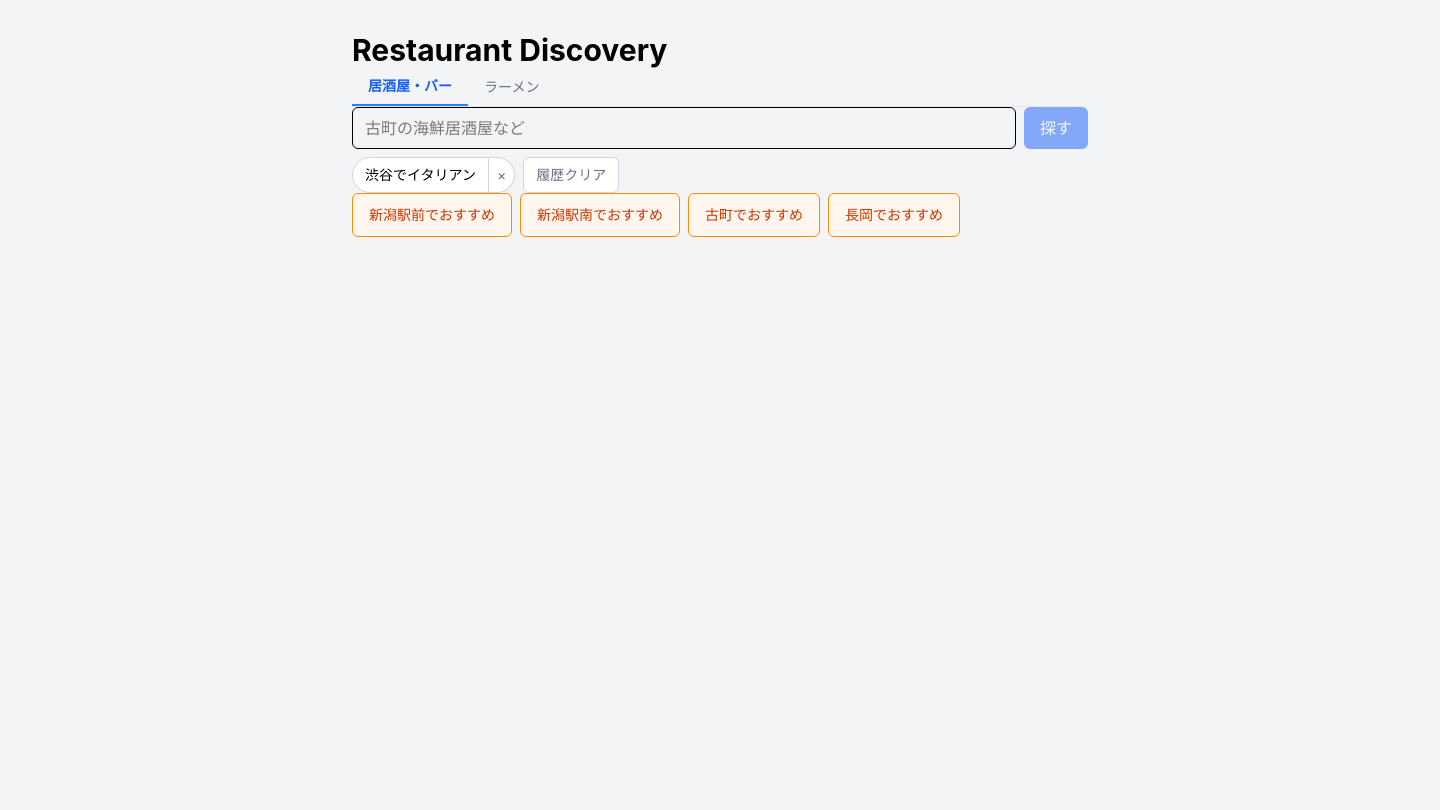
it: App - refine-recommendation統合 › 再レコメンド後に「もっと見る」展開状態がリセットされる（Req 6.2）
Type "渋谷でイタリアン" into the field at [684, 128], box [352,107,1016,149]
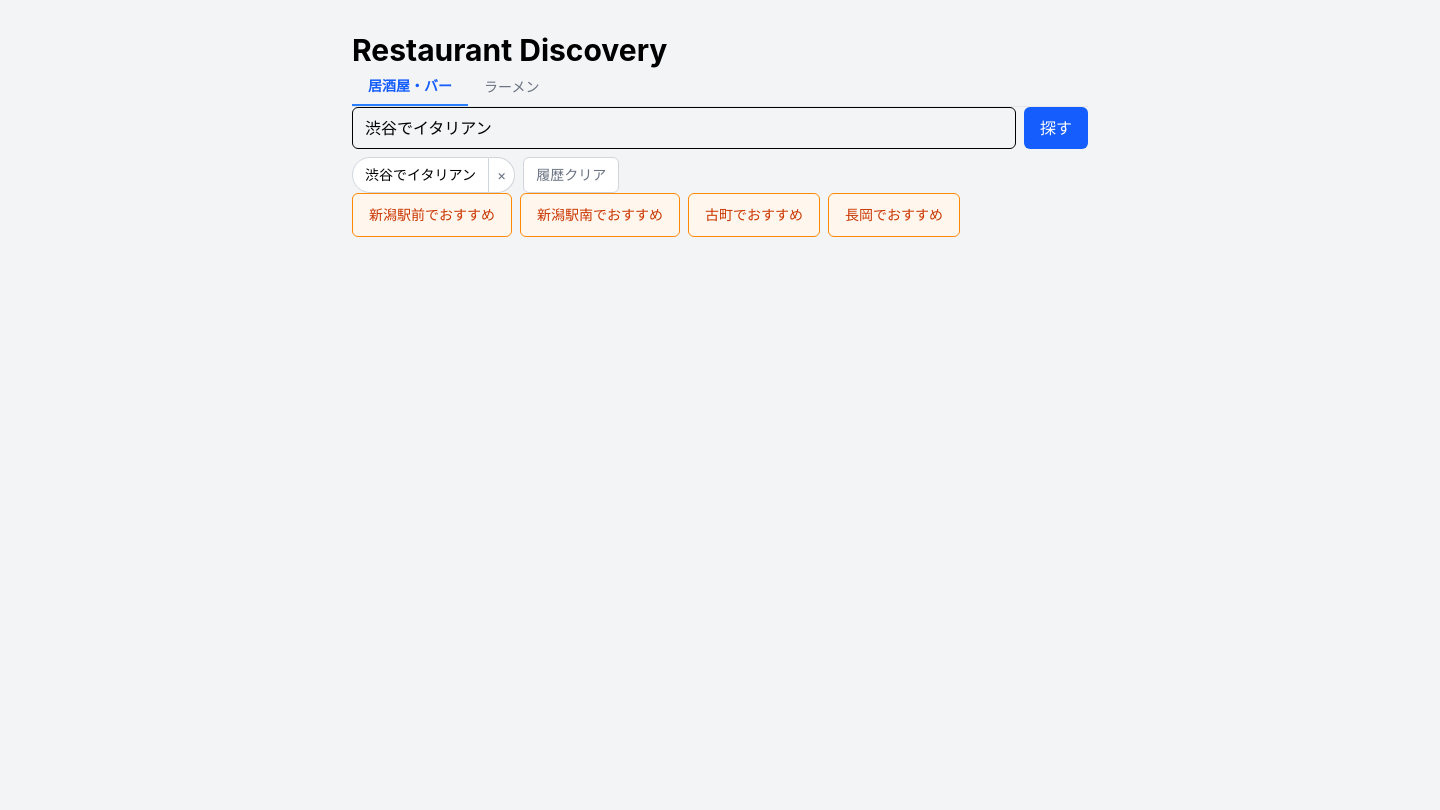
Submit the form, box [352,107,1088,149]
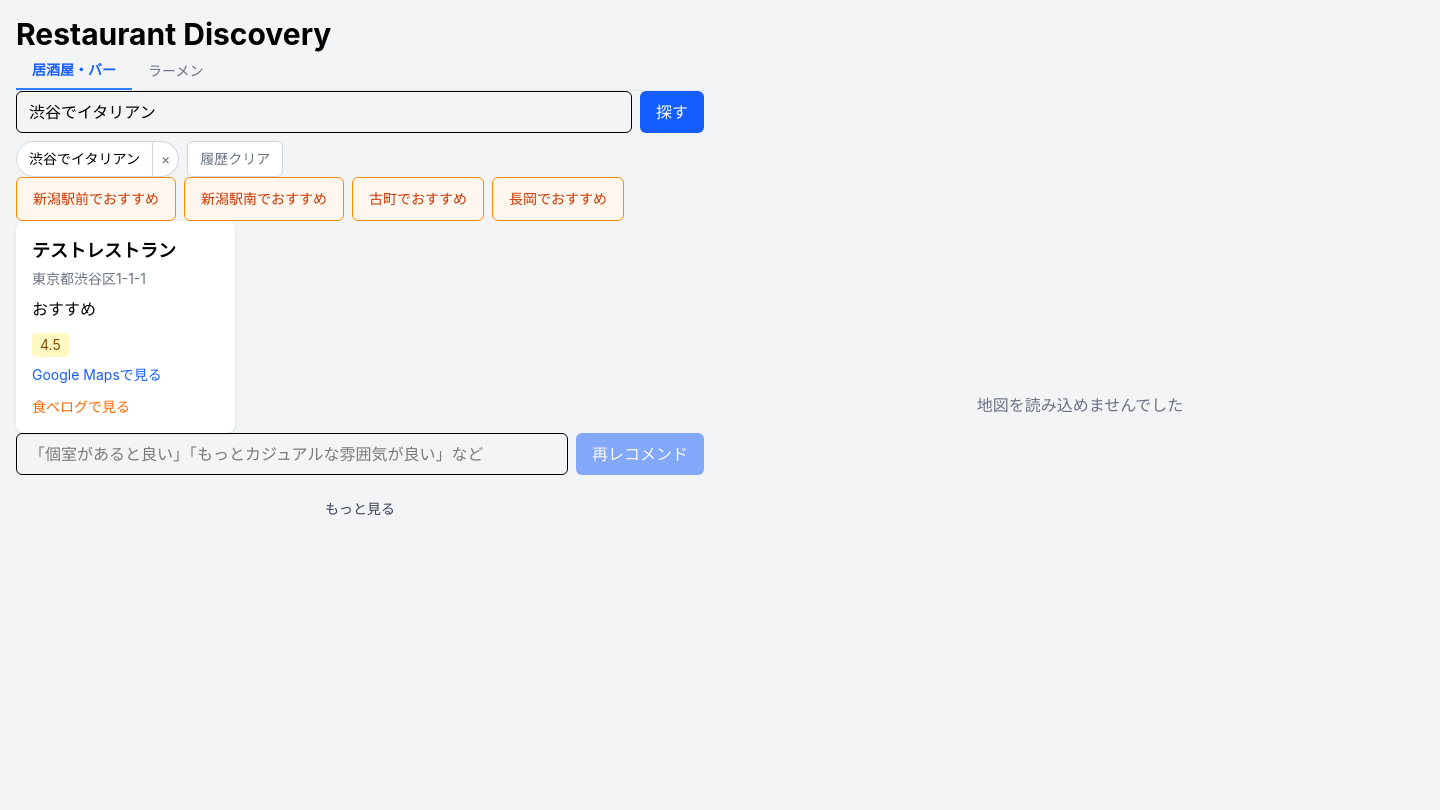
Now the heading "テストレストラン" is shown, box [32,240,176,261]
Click the button "もっと見る" at [360, 509], box [301,491,419,527]
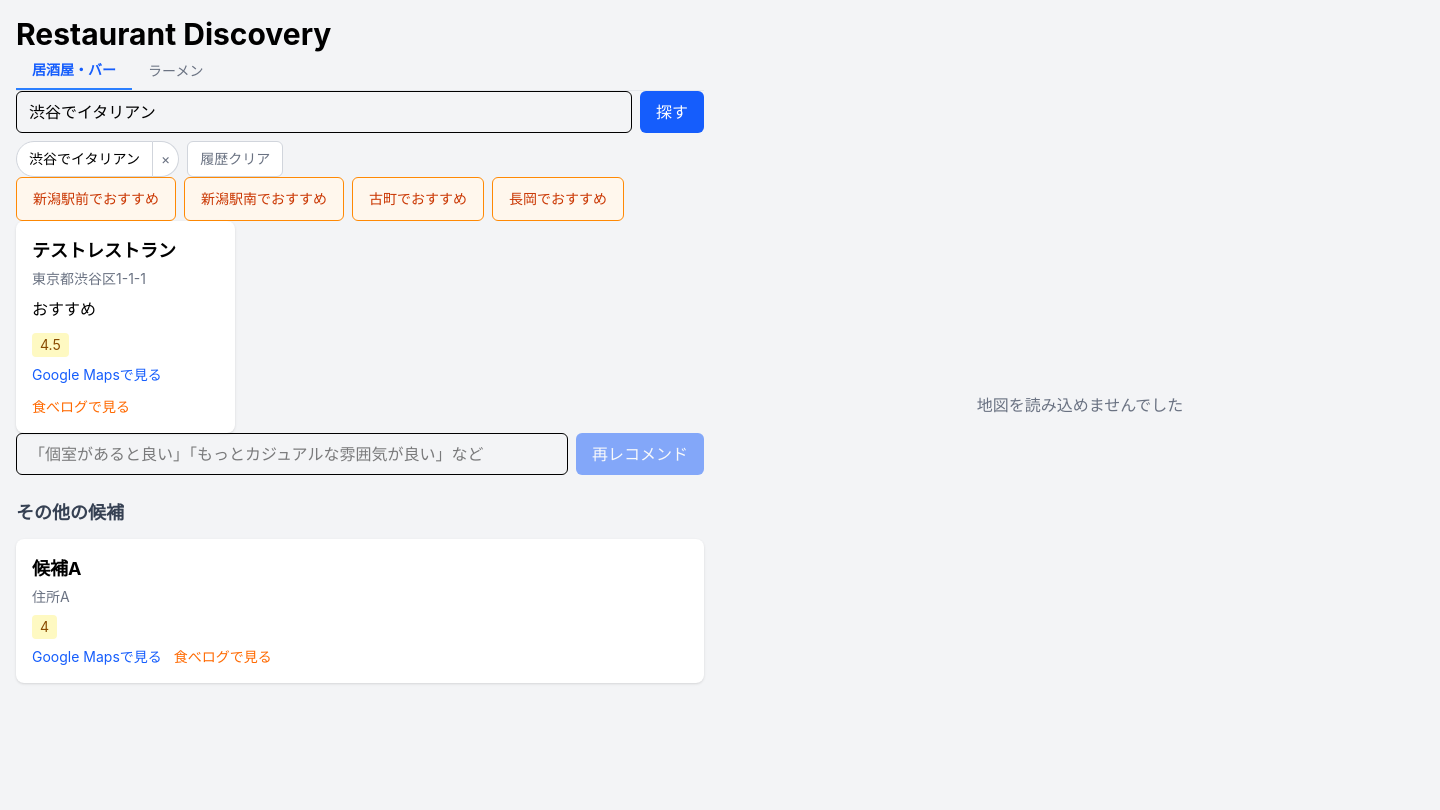
Now the heading "候補A" is shown, box [32,558,82,579]
Type "個室があると良い" into the field named "フィードバック入力" at [292, 454], box [16,433,568,475]
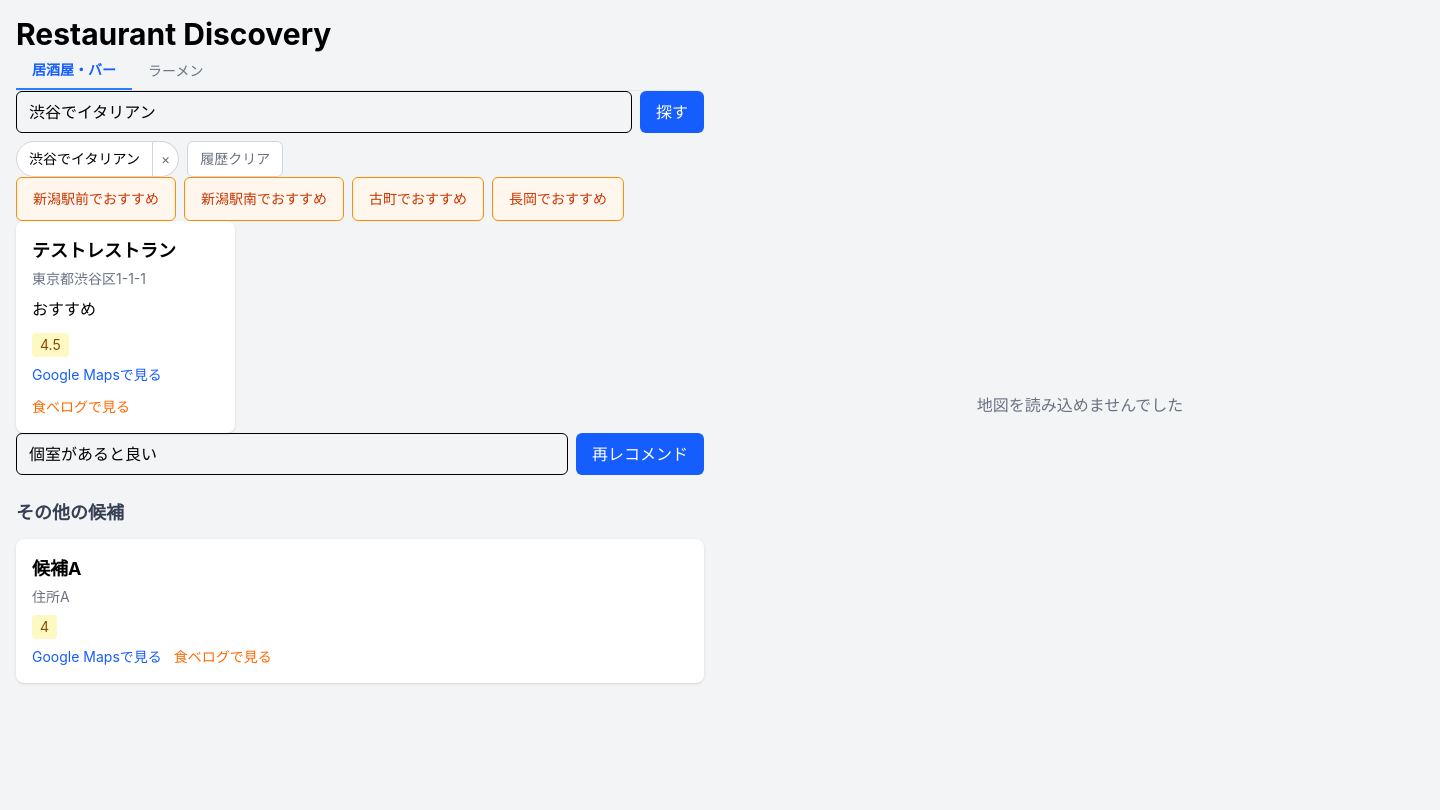
Click the button "再レコメンド" at [640, 454], box [576,433,704,475]
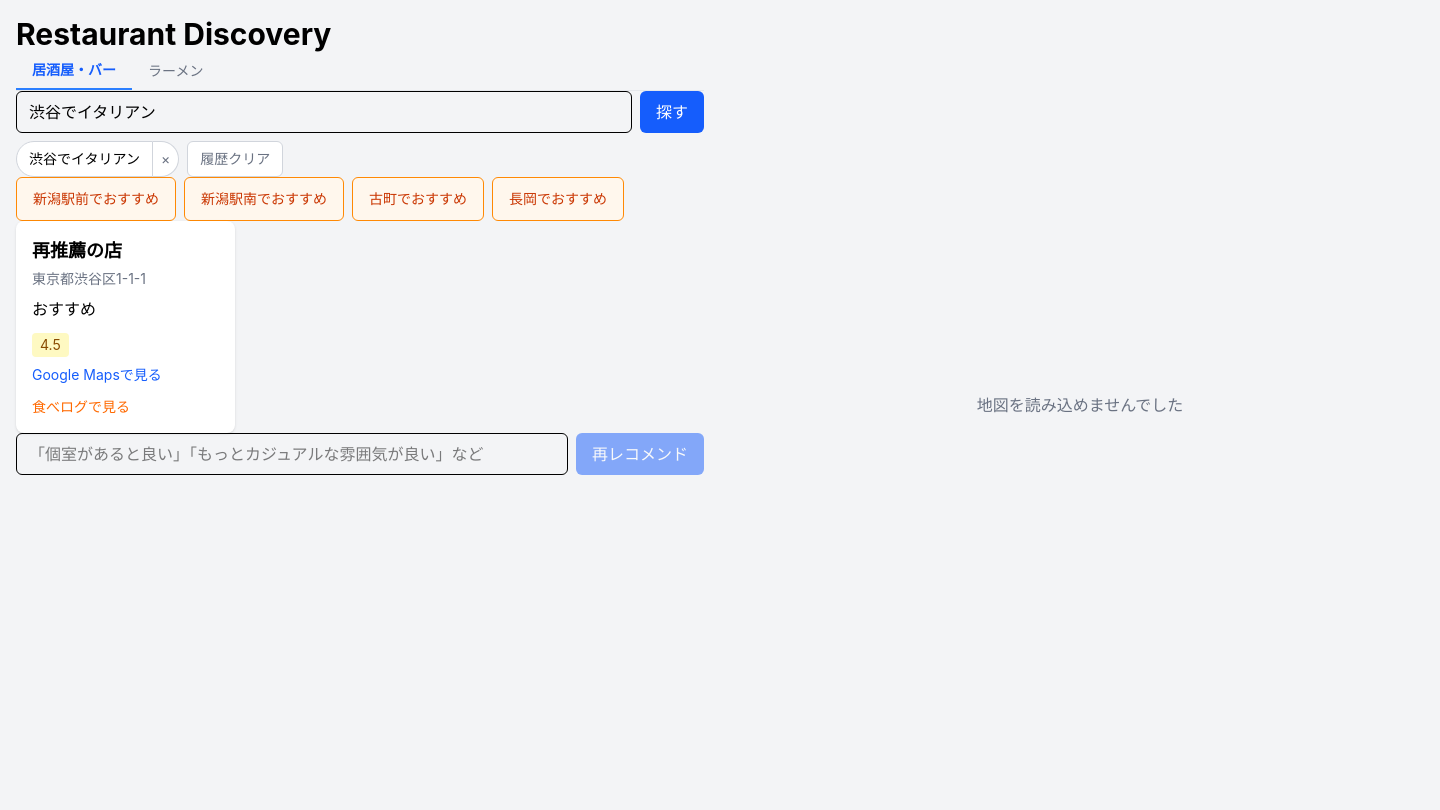
Now the heading "再推薦の店" is shown, box [32,240,122,261]
Now the heading "候補A" is gone
